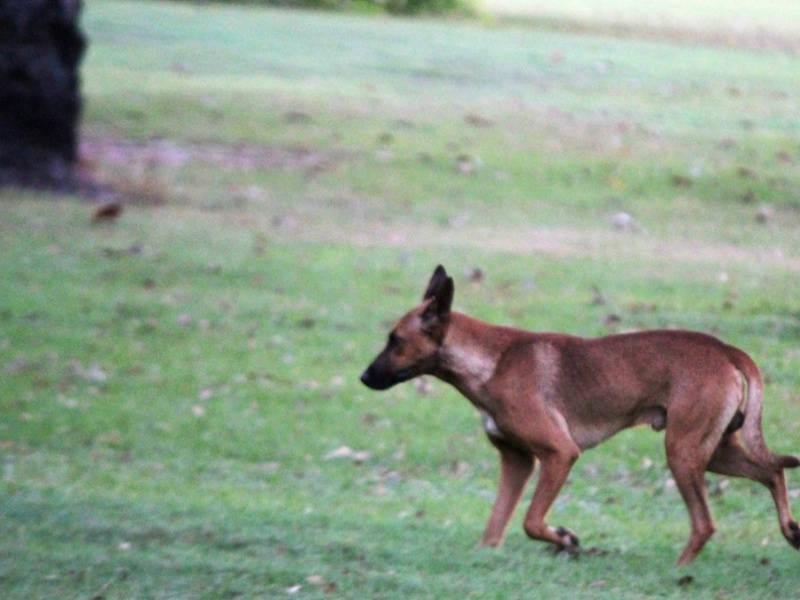dog: (349, 257, 800, 577)
